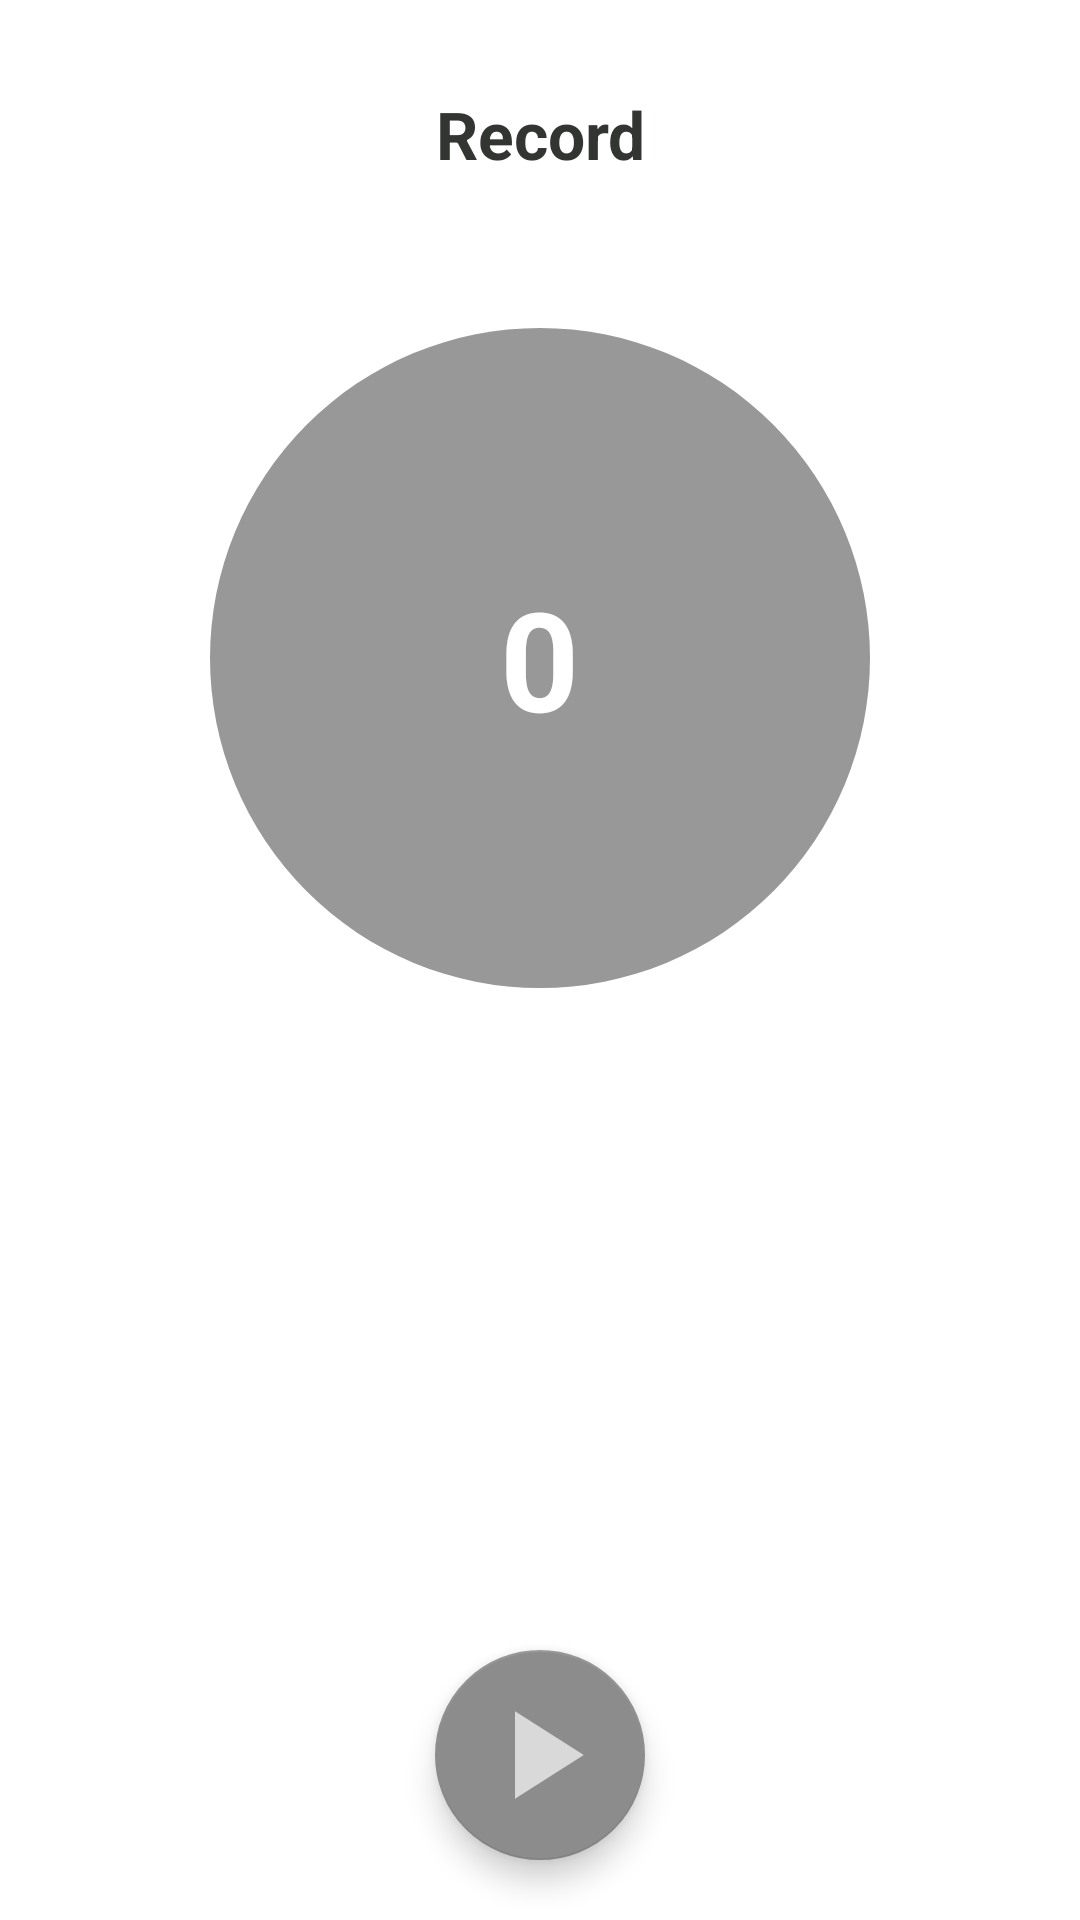

Where icons sit on this 1080×1920 app screen, as bbox(x1, y1, x2, y2):
play arrow: bbox(435, 1650, 645, 1860)
